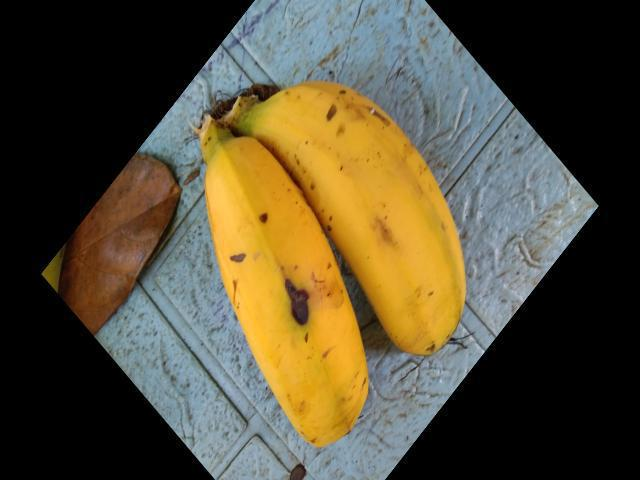freshripe: (332, 60, 469, 358)
ripe: (190, 125, 392, 450)
